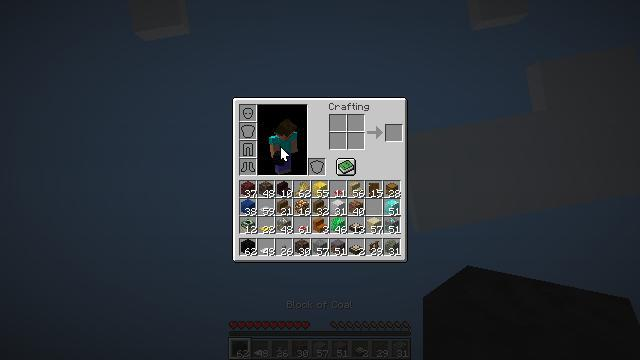cursor: (280, 146, 290, 162)
